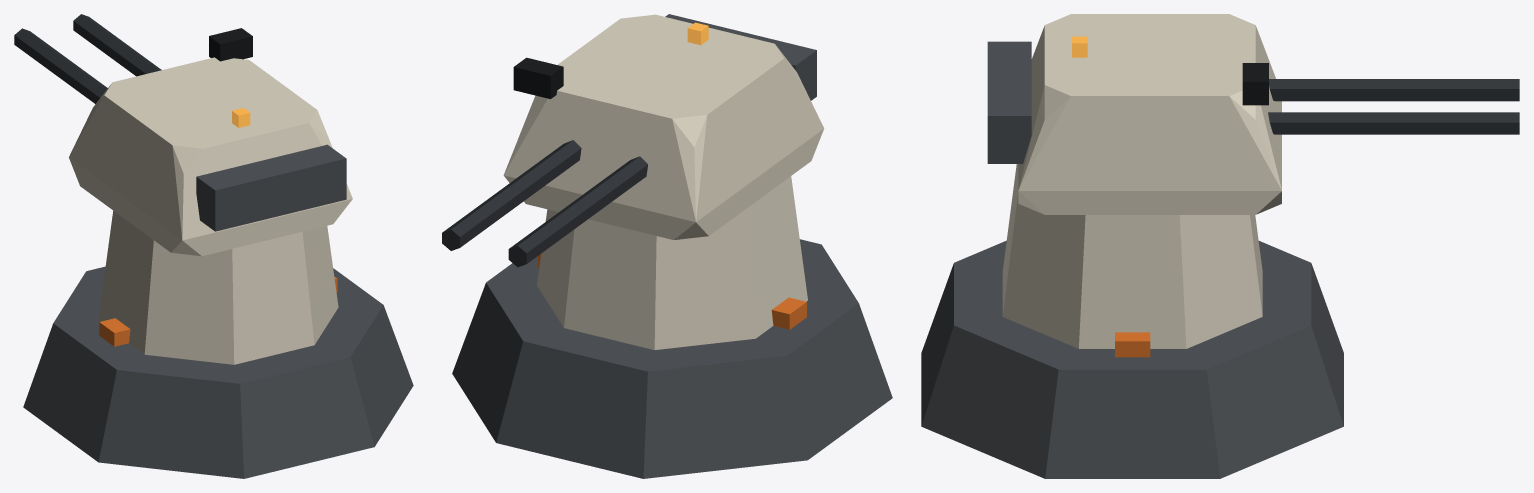
Rendered from hum_str_turret.glb.
The picture shows the model from 3 angles, left to right: view 1: azimuth 30°, elevation 25°; view 2: azimuth 150°, elevation 25°; view 3: azimuth 270°, elevation 25°; orthographic projection. The views are drawn at different scales.
Visible parts, largest first — view 1: base, turret_head; view 2: base, turret_head; view 3: base, turret_head.
Boxes of the visible parts, left/top/right/bottom form: base: left=23, top=211, right=413, bottom=478; turret_head: left=14, top=14, right=352, bottom=256; base: left=452, top=176, right=892, bottom=478; turret_head: left=442, top=14, right=824, bottom=267; base: left=921, top=164, right=1343, bottom=478; turret_head: left=987, top=14, right=1519, bottom=214.
Size of the model in its own units: 4.8 by 4.45 by 6.8.
Materials: 2 (2 with a texture image).
